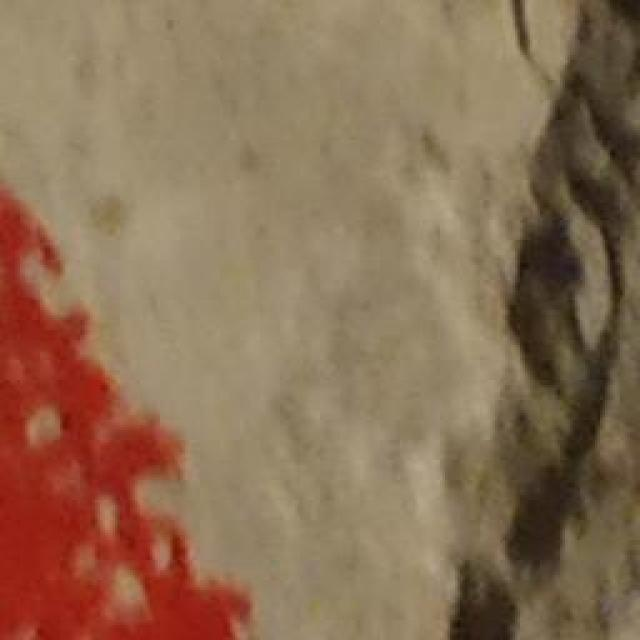Longitudinal: (468, 8, 640, 640)
Rippled: (4, 162, 264, 640)
